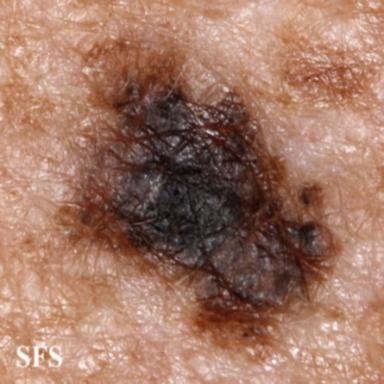Melanoma: (61, 43, 337, 357)
